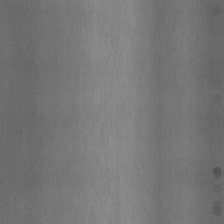oil_spot: (211, 197, 221, 219), (212, 163, 222, 180)
